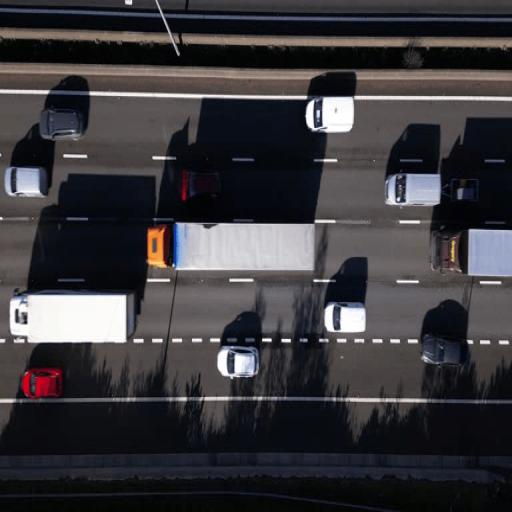Car: (172, 161, 229, 210), (381, 168, 444, 212), (303, 88, 357, 138), (416, 327, 470, 377), (215, 336, 263, 387), (36, 100, 86, 147), (321, 295, 368, 341), (2, 162, 51, 205), (20, 363, 66, 405)
Truck: (143, 216, 321, 278), (6, 284, 139, 348), (428, 222, 512, 289)
